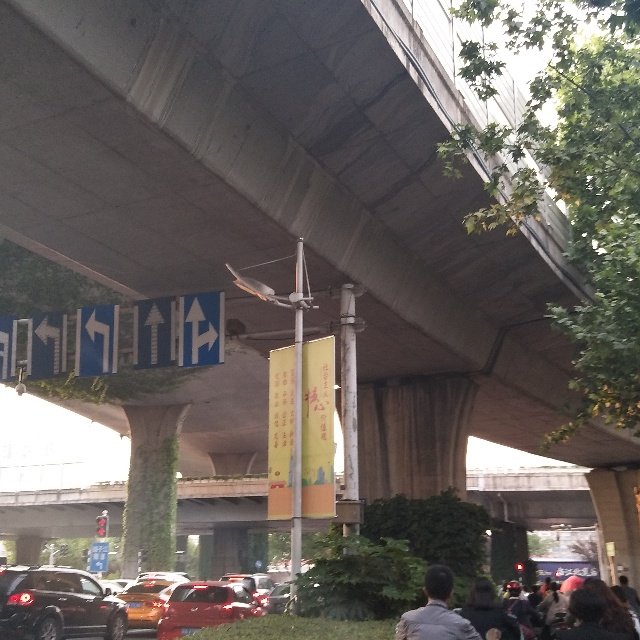left: (75, 306, 116, 375), (25, 312, 67, 378)
straight: (137, 300, 174, 362)
